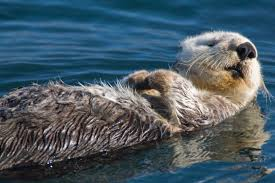otter: (164, 11, 269, 118)
